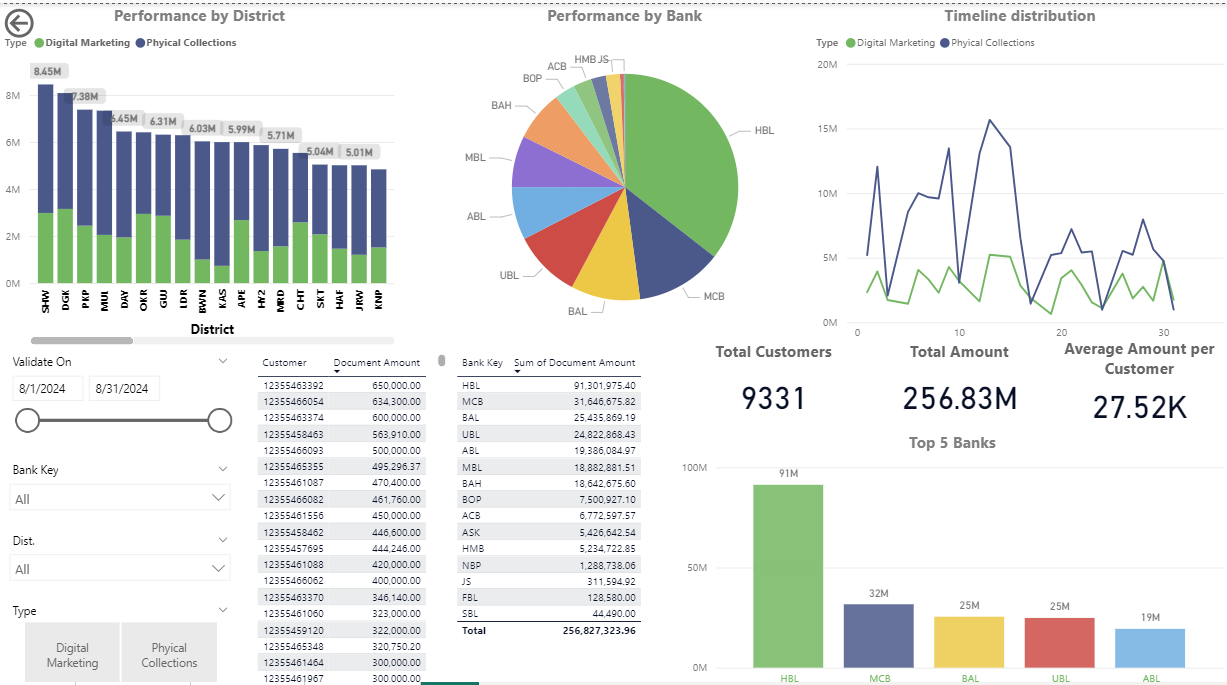

What the dashboard file says about the page in this screenshot:
{"tool":"powerbi","page":{"name":"Page 4","canvas":[1280,720],"ordinal":0},"visuals":[{"type":"tableEx","fields":{"Values":["Dashboard xlsx - Collections.Bank Key","Sum(Dashboard xlsx - Collections.Document Amount)"]},"box":[469.6,359.5,212.1,359.5],"z":0},{"type":"actionButton","box":[0,0,100,40],"z":1000},{"type":"slicer","title":"District","fields":{"Values":["Dashboard xlsx - Collections.Dist."]},"box":[0,545.6,249.7,73.6],"z":2000},{"type":"card","title":"Total Amount","fields":{"Values":["Sum(Dashboard xlsx - Collections.Document Amount)"]},"box":[906.8,349.8,186.2,93.9],"z":3000},{"type":"card","title":"Average Amount per Customer","fields":{"Values":["Avg(Dashboard xlsx - Collections.Document Amount)"]},"box":[1093,346.5,186.2,97.2],"z":4000},{"type":"card","title":"Total Customers","fields":{"Values":["Count(Dashboard xlsx - Collections.Customer)"]},"box":[704.4,349.8,202.4,93.9],"z":5000},{"type":"slicer","title":"Bank Key","fields":{"Values":["Dashboard xlsx - Collections.Bank Key"]},"box":[0,472.1,249.7,73.6],"z":6000},{"type":"slicer","title":"Date Filter","fields":{"Values":["Dashboard xlsx - Collections.Validate On"]},"box":[0,359.2,249.7,109.5],"z":7000},{"type":"slicer","fields":{"Values":["Dashboard xlsx - Collections.Type"]},"box":[0,619.2,249.7,100.9],"z":8000},{"type":"columnChart","title":"Performance by District","fields":{"Category":["Dashboard xlsx - Collections.Dist."],"Y":["Sum(Dashboard xlsx - Collections.Document Amount)"],"Series":["Dashboard xlsx - Collections.Type"]},"box":[0,0,415.6,359.4],"z":9000},{"type":"pieChart","title":"Performance by Bank","fields":{"Category":["Dashboard xlsx - Collections.Bank Key"],"Y":["Sum(Dashboard xlsx - Collections.Document Amount)"]},"box":[428.1,0,445.3,359.4],"z":10000},{"type":"lineChart","title":"Timeline distribution","fields":{"Category":["Dashboard xlsx - Collections.Validate On.Variation.Date Hierarchy.Day"],"Y":["Sum(Dashboard xlsx - Collections.Document Amount)"],"Series":["Dashboard xlsx - Collections.Type"]},"box":[845,0,434.5,359.2],"z":11000},{"type":"tableEx","fields":{"Values":["Dashboard xlsx - Collections.Customer","Dashboard xlsx - Collections.Document Amount"]},"box":[262.3,359.5,207.3,359.5],"z":12000},{"type":"clusteredColumnChart","title":"Top 5 Banks","fields":{"Category":["Dashboard xlsx - Collections.Bank Key"],"Y":["Sum(Dashboard xlsx - Collections.Document Amount)"]},"box":[704.7,444.7,574.7,273.7],"z":12001}]}

Visuals, with their boxes in screenshot pixels (x1, y1, x2, y2), scaled from the page's 1280x720 canvas onto the 1227x685 screenshot:
tableEx - Dashboard xlsx - Collections.Bank Key x Sum(Dashboard xlsx - Collections.Document Amount): BBox(450, 342, 653, 684)
actionButton: BBox(0, 0, 96, 38)
"District" slicer: BBox(0, 519, 239, 589)
"Total Amount" card: BBox(869, 333, 1048, 422)
"Average Amount per Customer" card: BBox(1048, 330, 1226, 422)
"Total Customers" card: BBox(675, 333, 869, 422)
"Bank Key" slicer: BBox(0, 449, 239, 519)
"Date Filter" slicer: BBox(0, 342, 239, 446)
slicer - Dashboard xlsx - Collections.Type: BBox(0, 589, 239, 684)
"Performance by District" columnChart: BBox(0, 0, 398, 342)
"Performance by Bank" pieChart: BBox(410, 0, 837, 342)
"Timeline distribution" lineChart: BBox(810, 0, 1226, 342)
tableEx - Dashboard xlsx - Collections.Customer x Dashboard xlsx - Collections.Document Amount: BBox(251, 342, 450, 684)
"Top 5 Banks" clusteredColumnChart: BBox(676, 423, 1226, 683)
